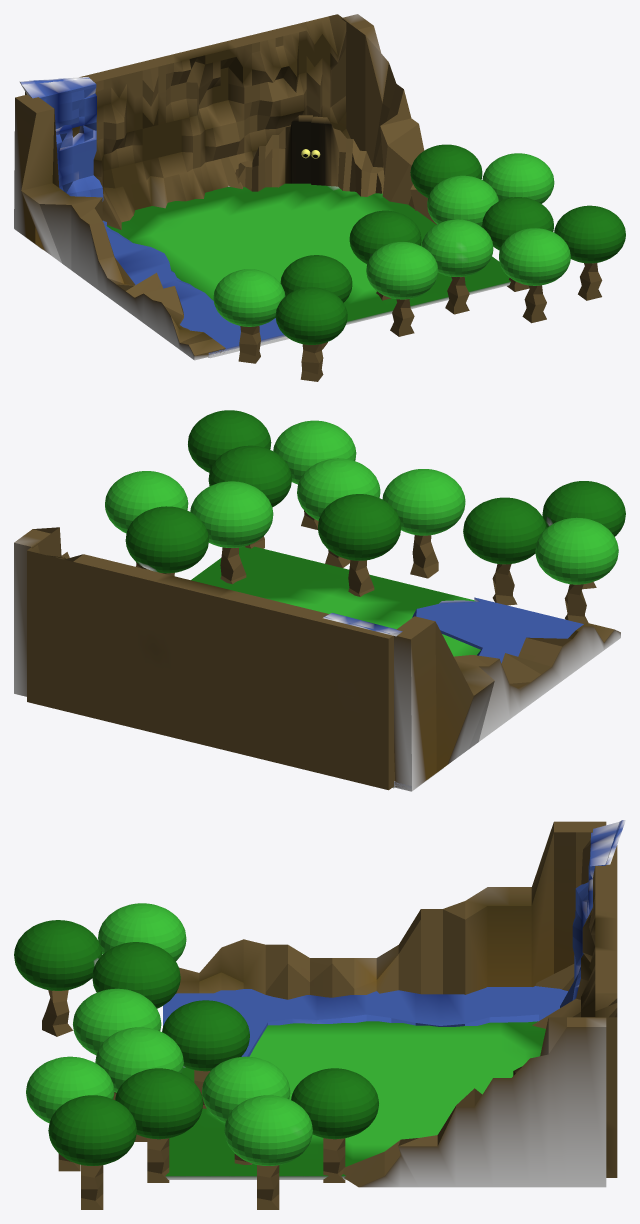
Rendered from AudioEnvironment.glb.
3 renders of one model, top to bottom at view 1: azimuth 30°, elevation 25°; view 2: azimuth 150°, elevation 25°; view 3: azimuth 270°, elevation 25°, orthographic. The views are drawn at different scales.
Visible parts, largest first — view 1: Cube.001, Cube, Cube.003, Cube.004, Cube.007, Cube.002, Cube.005, Cube.006, Sphere.007, Sphere.012, Sphere.013, Sphere.015 (+14 smaller); view 2: Cube.001, Cube.003, Cube, Cube.002, Sphere.004, Sphere.015, Sphere.010, Sphere.014, Sphere.006, Sphere.012, Sphere.011, Sphere.005 (+11 smaller); view 3: Cube.003, Cube, Cube.004, Cube.002, Cube.001, Sphere.008, Sphere.005, Sphere.013, Sphere.004, Sphere.009, Sphere.010, Sphere.014 (+11 smaller).
Part boxes in pixels (x1,y1,x2,y2): Cube.001: (25,14,350,229); Cube: (106,183,510,358); Cube.003: (14,94,225,360); Cube.004: (341,14,436,224); Cube.007: (19,77,103,201); Cube.002: (14,220,285,357); Cube.005: (311,116,384,196); Cube.006: (228,115,312,191); Sphere.007: (499,228,570,285); Sphere.012: (366,242,438,299); Sphere.013: (275,287,347,344); Sphere.015: (213,269,285,326); Cube.001: (27,543,394,790); Cube.003: (394,616,620,790); Cube: (191,546,480,788); Cube.002: (394,597,583,791); Sphere.004: (125,506,208,573); Sphere.015: (535,517,618,584); Sphere.010: (318,494,401,560); Sphere.014: (463,497,546,564); Sphere.006: (190,481,273,547); Sphere.012: (382,469,465,535); Sphere.011: (297,458,380,520); Sphere.005: (105,471,188,533); Cube.003: (176,821,606,999); Cube: (165,1021,545,1179); Cube.004: (343,1017,606,1187); Cube.002: (163,986,567,1067); Cube.001: (532,840,617,1177); Sphere.008: (48,1095,136,1165); Sphere.005: (224,1095,312,1165); Sphere.013: (14,920,102,990); Sphere.004: (291,1068,378,1139); Sphere.009: (115,1068,203,1139); Sphere.010: (162,1000,249,1071); Sphere.014: (92,942,180,1008).
Bounding box in the file's own units: 269 × 89.69 × 276.
